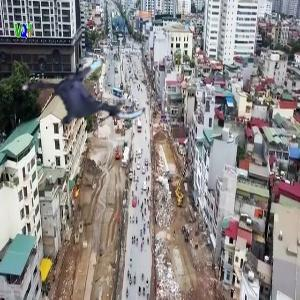drone: (34, 40, 146, 152)
